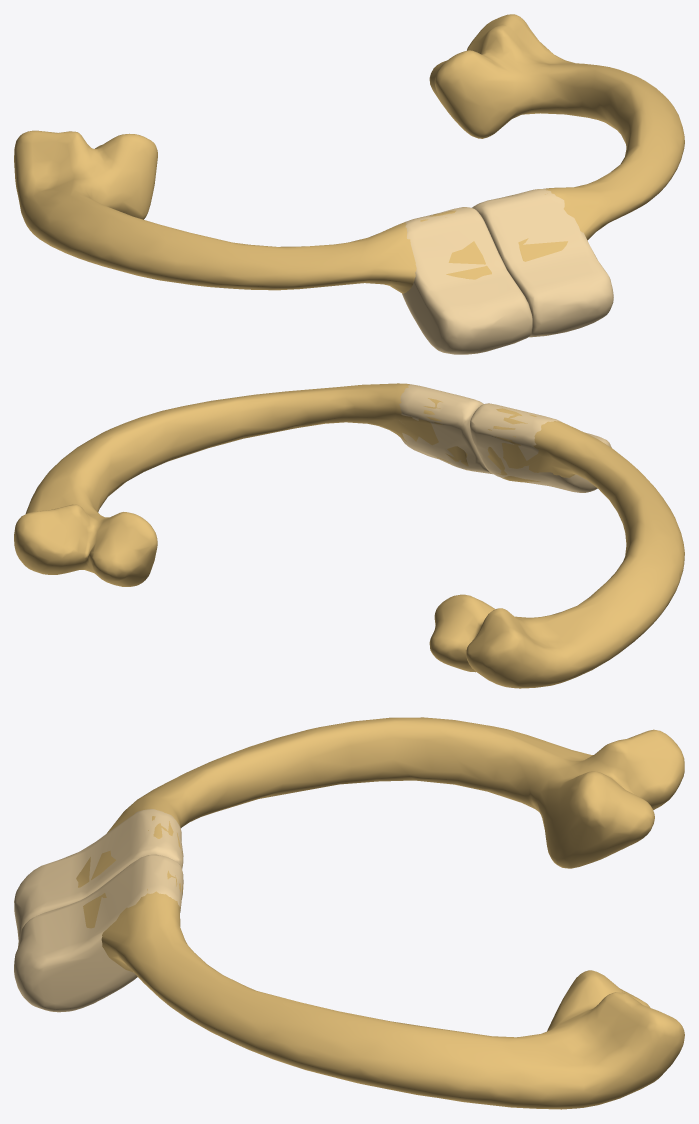
File: visual-pathway-prototype.glb
3 renders of one model, top to bottom at view 1: azimuth 30°, elevation 25°; view 2: azimuth 150°, elevation 25°; view 3: azimuth 270°, elevation 25°, orthographic. The views are drawn at different scales.
Visible parts, largest first — view 1: FMA62382, FMA62045, FMA67936; view 2: FMA62382, FMA67936, FMA62045; view 3: FMA67936, FMA62382, FMA62045.
Part boxes in pixels (x1,y1,x2,y2): FMA62382: (14, 130, 491, 293); FMA62045: (402, 189, 613, 354); FMA67936: (429, 14, 684, 261); FMA62382: (429, 408, 684, 688); FMA67936: (14, 383, 471, 586); FMA62045: (399, 384, 611, 492); FMA67936: (83, 870, 684, 1109); FMA62382: (76, 717, 684, 887); FMA62045: (14, 809, 183, 1012).
Bounding box in the file's own units: 0.5083 × 0.081 × 0.4082.
